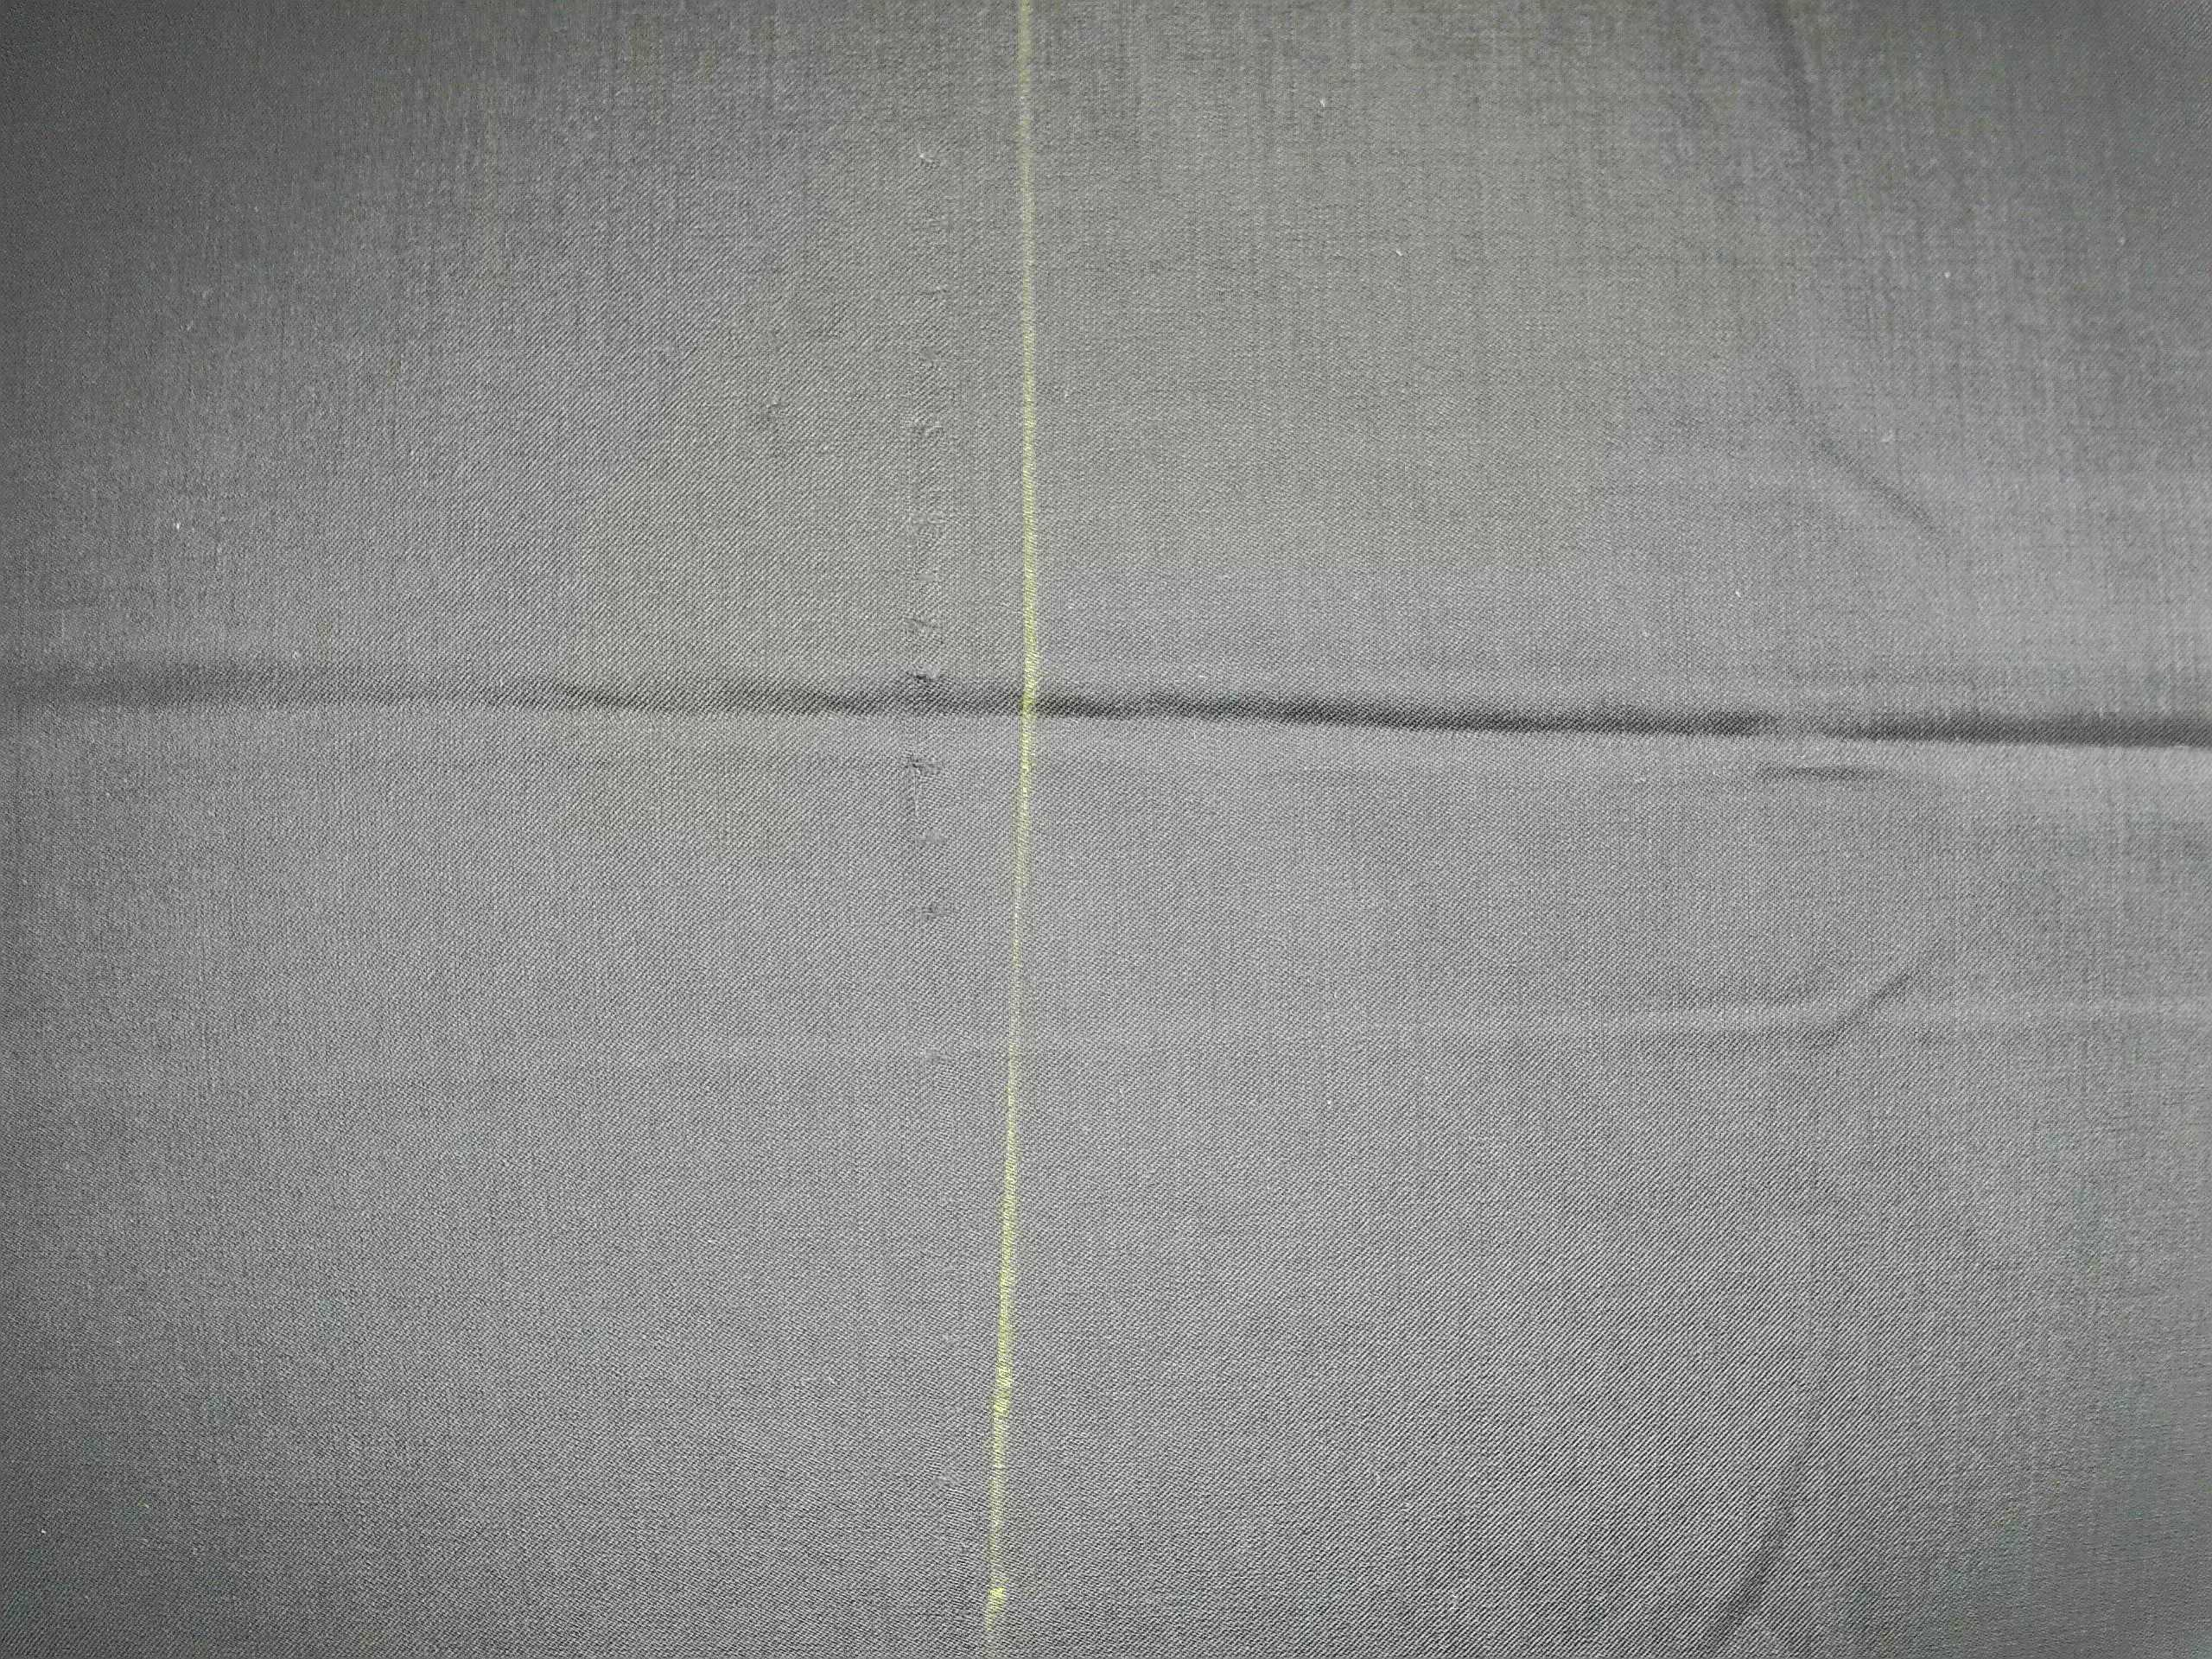rubbing-hole: (878, 110, 972, 979)
